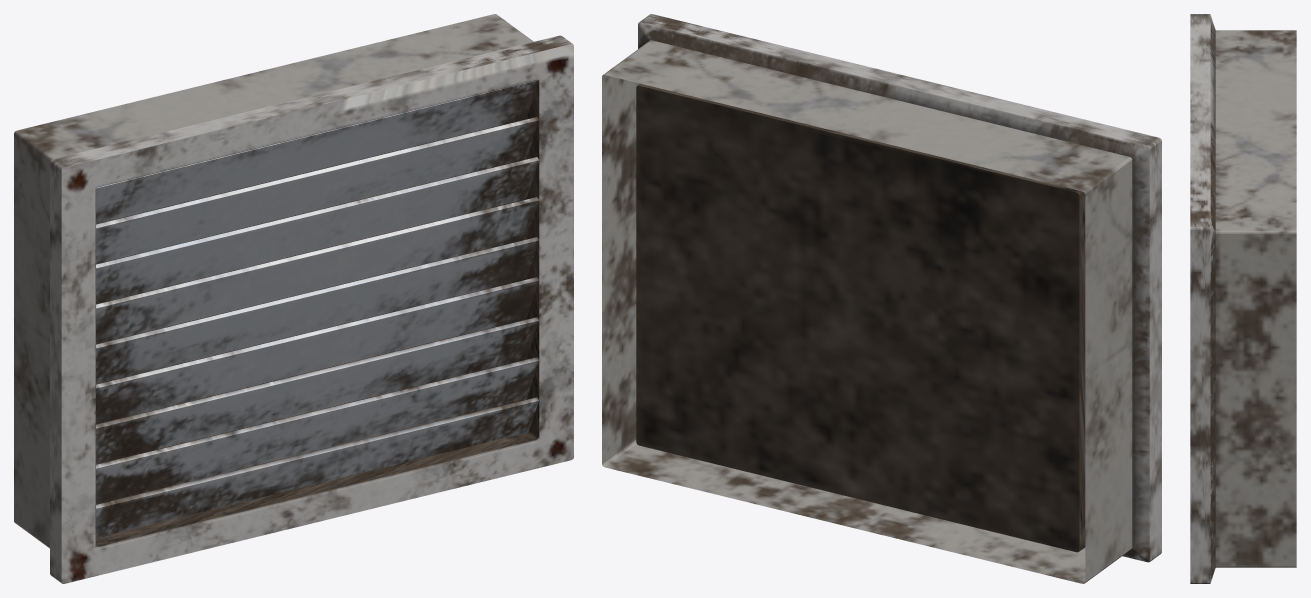
File: wallvent.fbx
The picture shows the model from 3 angles, left to right: view 1: azimuth 30°, elevation 25°; view 2: azimuth 150°, elevation 25°; view 3: azimuth 270°, elevation 25°; orthographic projection. The views are drawn at different scales.
Parts seen in each view (by area): view 1: Cube; view 2: Cube; view 3: Cube.
Part boxes in pixels (box(x1,y1,x2,y2)): Cube: box(14, 14, 573, 583); Cube: box(602, 14, 1161, 583); Cube: box(1190, 14, 1296, 583).
Bounding box in the file's own units: 51.55 × 40 × 10.83.
1 material, 1 textured.
